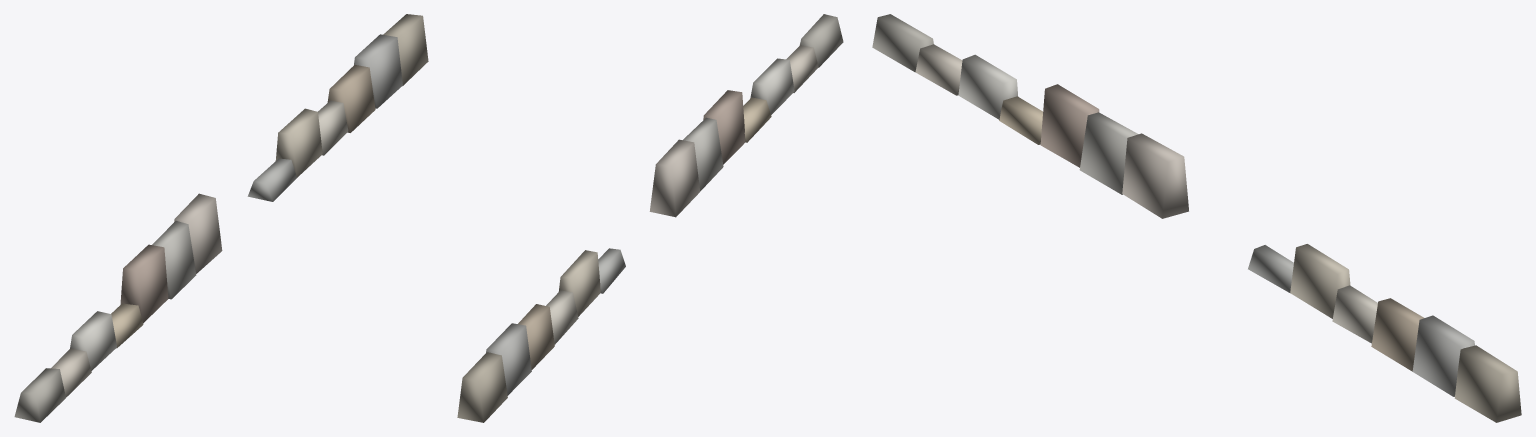
Rendered from farm_1_14_far.glb.
3 views of the same model, side by side, from view 1: azimuth 30°, elevation 25°; view 2: azimuth 210°, elevation 25°; view 3: azimuth 270°, elevation 25° (orthographic). The views are drawn at different scales.
Visible parts, largest first — view 1: geometry_0; view 2: geometry_0; view 3: geometry_0.
Part boxes in pixels (box(x1,y1,x2,y2)): geometry_0: box(14, 14, 428, 422); geometry_0: box(457, 14, 843, 422); geometry_0: box(872, 14, 1521, 422).
Size of the model in its own units: 19.26 by 1.9 by 14.72.
